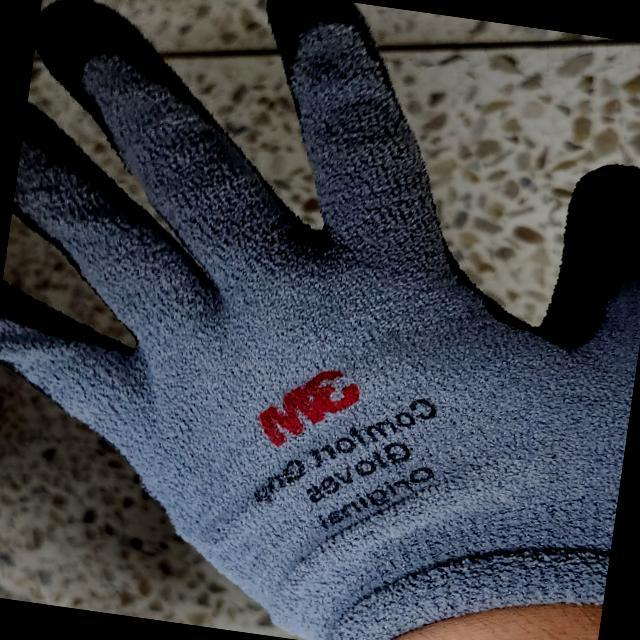Gloves: (0, 0, 635, 637)
